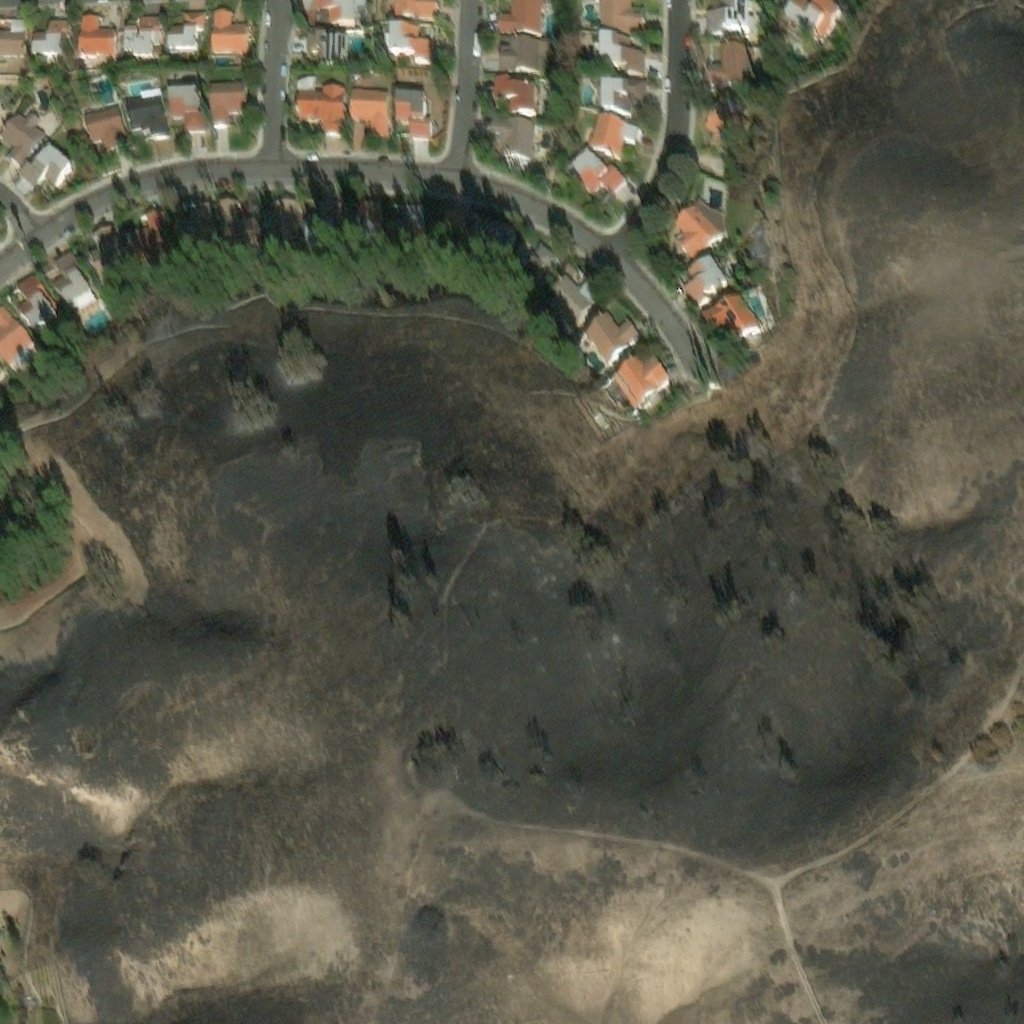0 no-damage: (611, 346, 670, 404), (674, 190, 724, 256), (89, 223, 137, 288), (701, 287, 759, 335), (702, 88, 749, 147), (583, 310, 639, 359), (14, 269, 60, 328), (0, 105, 45, 165), (680, 251, 729, 306), (570, 153, 627, 199), (545, 271, 600, 318), (126, 90, 172, 144), (51, 247, 94, 304), (85, 106, 132, 155), (18, 142, 70, 186), (465, 215, 518, 258), (300, 91, 347, 139), (521, 236, 571, 281), (591, 118, 643, 160), (129, 210, 171, 260), (218, 198, 259, 247), (29, 9, 70, 58), (122, 11, 162, 61), (491, 118, 535, 162), (387, 29, 437, 67), (384, 204, 424, 251), (75, 7, 115, 54), (305, 198, 346, 243), (426, 204, 465, 251), (0, 301, 32, 358), (176, 200, 213, 249), (212, 84, 251, 130), (353, 94, 391, 141), (603, 38, 647, 78), (782, 0, 838, 31), (171, 91, 209, 136), (212, 10, 249, 56), (495, 77, 539, 114), (169, 9, 205, 54), (263, 199, 301, 241), (305, 0, 366, 26), (345, 200, 381, 244), (600, 0, 646, 34), (399, 95, 433, 141), (499, 0, 546, 33), (604, 82, 647, 118), (708, 43, 750, 79), (308, 32, 350, 68), (499, 37, 541, 71), (707, 0, 750, 33), (395, 0, 439, 25), (0, 4, 23, 50)
